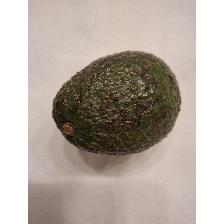Avocado: (51, 49, 184, 159)
